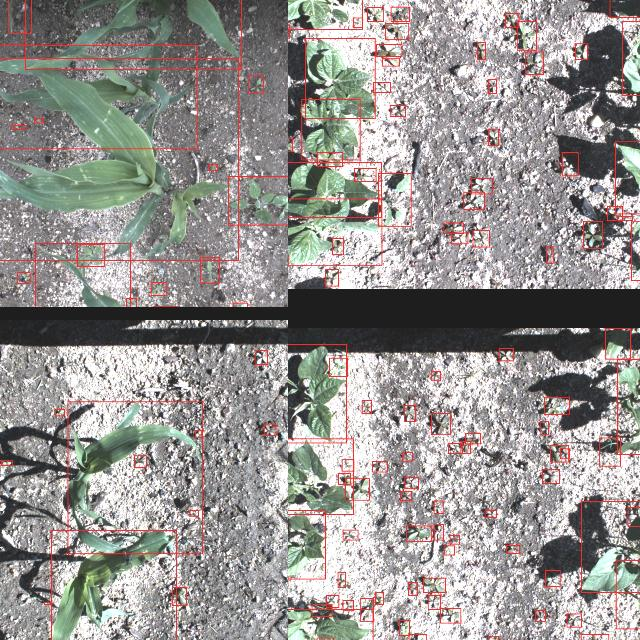crop: (0, 57, 237, 260), (0, 45, 196, 149), (68, 402, 202, 554), (25, 0, 241, 69), (50, 531, 175, 640), (288, 199, 381, 265), (34, 244, 129, 307), (288, 343, 345, 442), (304, 38, 374, 118), (581, 501, 640, 592), (288, 162, 381, 217), (288, 439, 352, 515), (301, 99, 359, 160), (288, 609, 372, 640), (288, 510, 324, 579), (616, 359, 640, 454), (288, 0, 361, 28), (614, 142, 640, 214), (615, 560, 640, 629), (7, 0, 31, 33), (631, 221, 640, 281)
weed: (227, 176, 288, 225), (378, 174, 410, 226), (604, 328, 630, 358), (76, 244, 104, 266), (598, 438, 620, 466), (516, 20, 536, 50), (582, 222, 602, 248), (345, 478, 369, 499), (200, 258, 218, 282), (544, 396, 568, 414), (430, 414, 450, 434), (525, 52, 543, 74), (384, 23, 408, 39), (462, 192, 483, 210), (561, 152, 577, 175), (316, 152, 342, 166), (405, 526, 431, 540), (471, 178, 492, 194), (550, 444, 568, 462), (328, 358, 346, 376), (390, 6, 410, 22), (440, 608, 460, 624), (375, 44, 401, 56), (354, 168, 376, 182), (423, 578, 445, 592), (366, 6, 384, 22), (472, 230, 488, 248), (544, 570, 560, 588), (360, 598, 372, 622), (606, 206, 622, 222), (171, 587, 185, 605), (541, 469, 559, 483), (627, 507, 640, 526), (311, 604, 331, 616), (248, 76, 262, 92), (150, 282, 166, 296), (324, 270, 338, 286), (443, 223, 463, 233), (504, 13, 518, 27), (566, 614, 580, 628), (451, 232, 467, 244), (332, 238, 342, 256), (372, 82, 390, 92), (389, 105, 405, 116), (464, 432, 480, 443), (575, 44, 587, 58), (254, 350, 266, 364), (498, 348, 512, 360), (580, 634, 608, 640), (428, 595, 440, 609), (488, 129, 498, 145), (404, 405, 414, 421), (399, 620, 409, 636), (433, 524, 443, 540), (342, 530, 358, 540), (17, 272, 29, 284), (134, 455, 146, 467), (263, 423, 275, 435), (326, 595, 338, 607), (447, 443, 461, 453), (404, 478, 418, 488), (372, 462, 386, 472), (476, 42, 484, 59), (337, 572, 345, 588), (488, 79, 497, 93), (408, 582, 417, 596), (374, 593, 384, 605), (538, 422, 548, 434), (535, 610, 545, 622), (460, 441, 470, 453), (342, 600, 352, 612), (341, 460, 353, 470), (361, 400, 371, 412), (338, 474, 350, 484), (433, 501, 442, 514), (382, 59, 398, 66), (546, 246, 552, 264), (352, 17, 362, 27), (430, 370, 440, 380), (400, 491, 410, 501), (402, 452, 412, 462), (10, 124, 26, 130), (506, 545, 518, 553), (484, 510, 496, 518), (126, 298, 136, 307), (408, 635, 426, 640), (54, 408, 64, 416), (444, 546, 454, 554), (560, 449, 568, 459), (449, 536, 459, 544), (0, 460, 12, 466), (616, 216, 632, 220), (194, 430, 202, 438), (232, 303, 247, 307), (188, 510, 198, 516), (288, 138, 292, 152), (208, 164, 216, 170), (488, 636, 498, 640), (34, 118, 42, 122), (43, 603, 49, 605)
